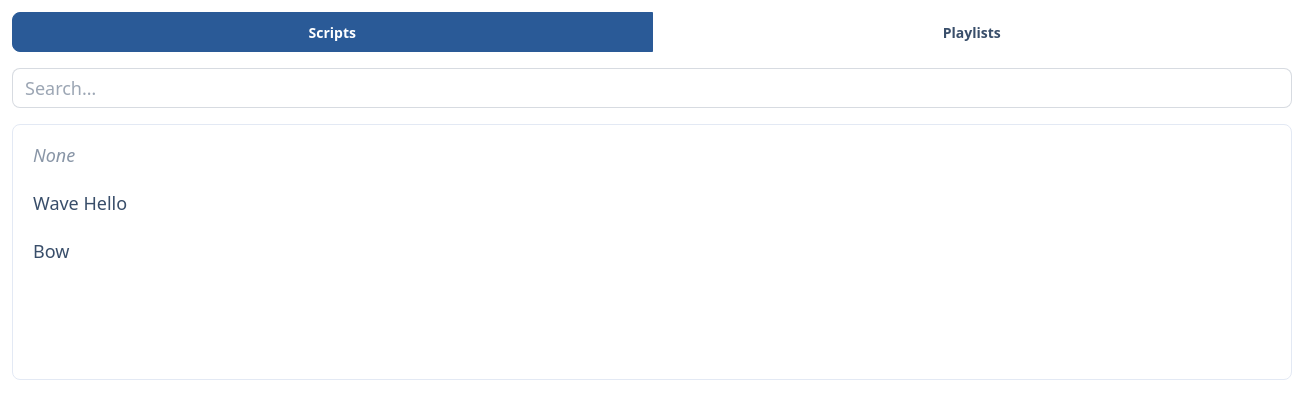
AstrosRemoteButtonEditor › switches to playlist tab on click and shows playlist items
Click the tab with test id "editor-tab-playlist".
click(972, 32)  # box [652, 12, 1292, 52]
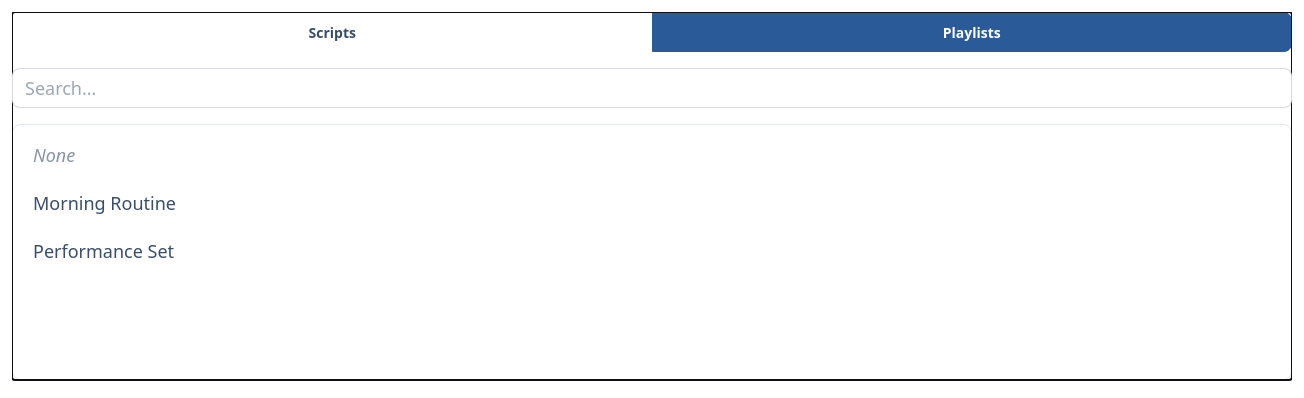
Check: the text "Morning Routine" is shown, box [21, 181, 1283, 225]
Check: the text "Wave Hello" is gone
